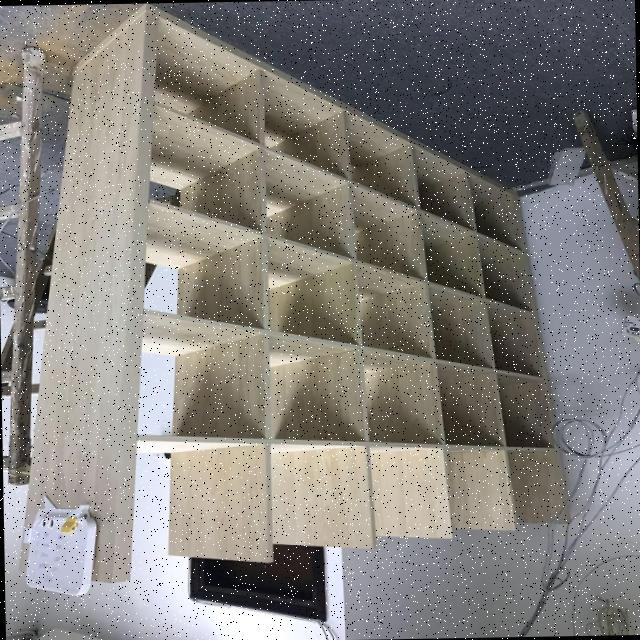Shelf: (6, 0, 576, 587)
